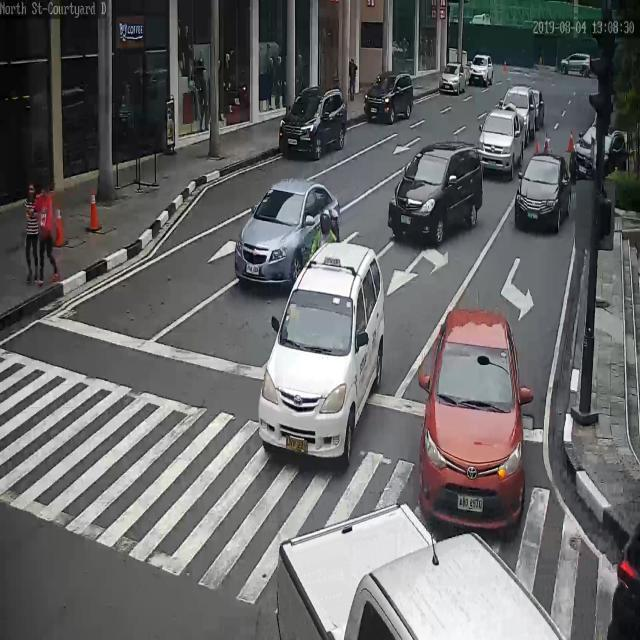car: (276, 500, 568, 640), (259, 242, 387, 456), (418, 306, 527, 534), (234, 177, 340, 284), (389, 140, 483, 242), (279, 89, 348, 163), (517, 157, 572, 234), (606, 516, 639, 640), (570, 125, 631, 180), (478, 110, 524, 178), (364, 74, 414, 127), (502, 88, 536, 145), (439, 64, 468, 97), (561, 49, 592, 79), (469, 55, 495, 87), (533, 87, 546, 130)
jeepney: (310, 204, 340, 265)
